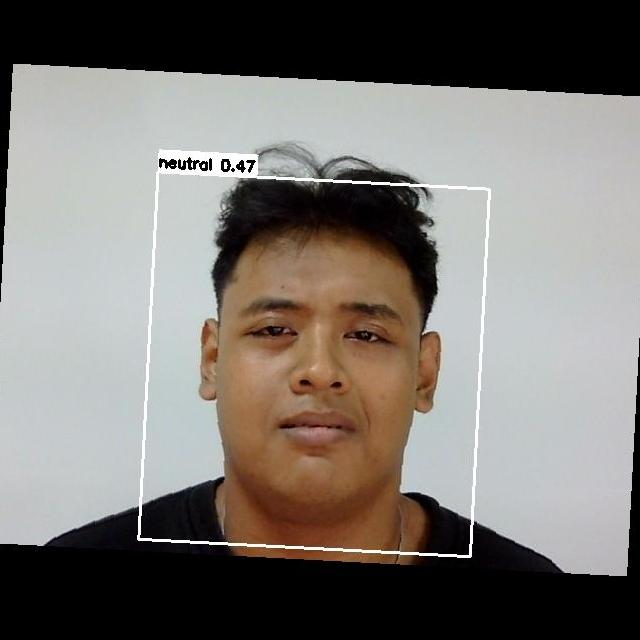Fear: (216, 278, 424, 477)
